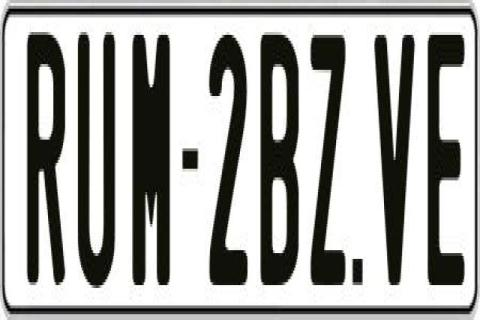0: (206, 35, 249, 285)
B: (258, 29, 296, 288)
E: (426, 26, 461, 276)
M: (132, 35, 170, 294)
R: (27, 29, 68, 299)
U: (75, 29, 118, 288)
V: (372, 32, 419, 294)
Z: (308, 29, 346, 297)
